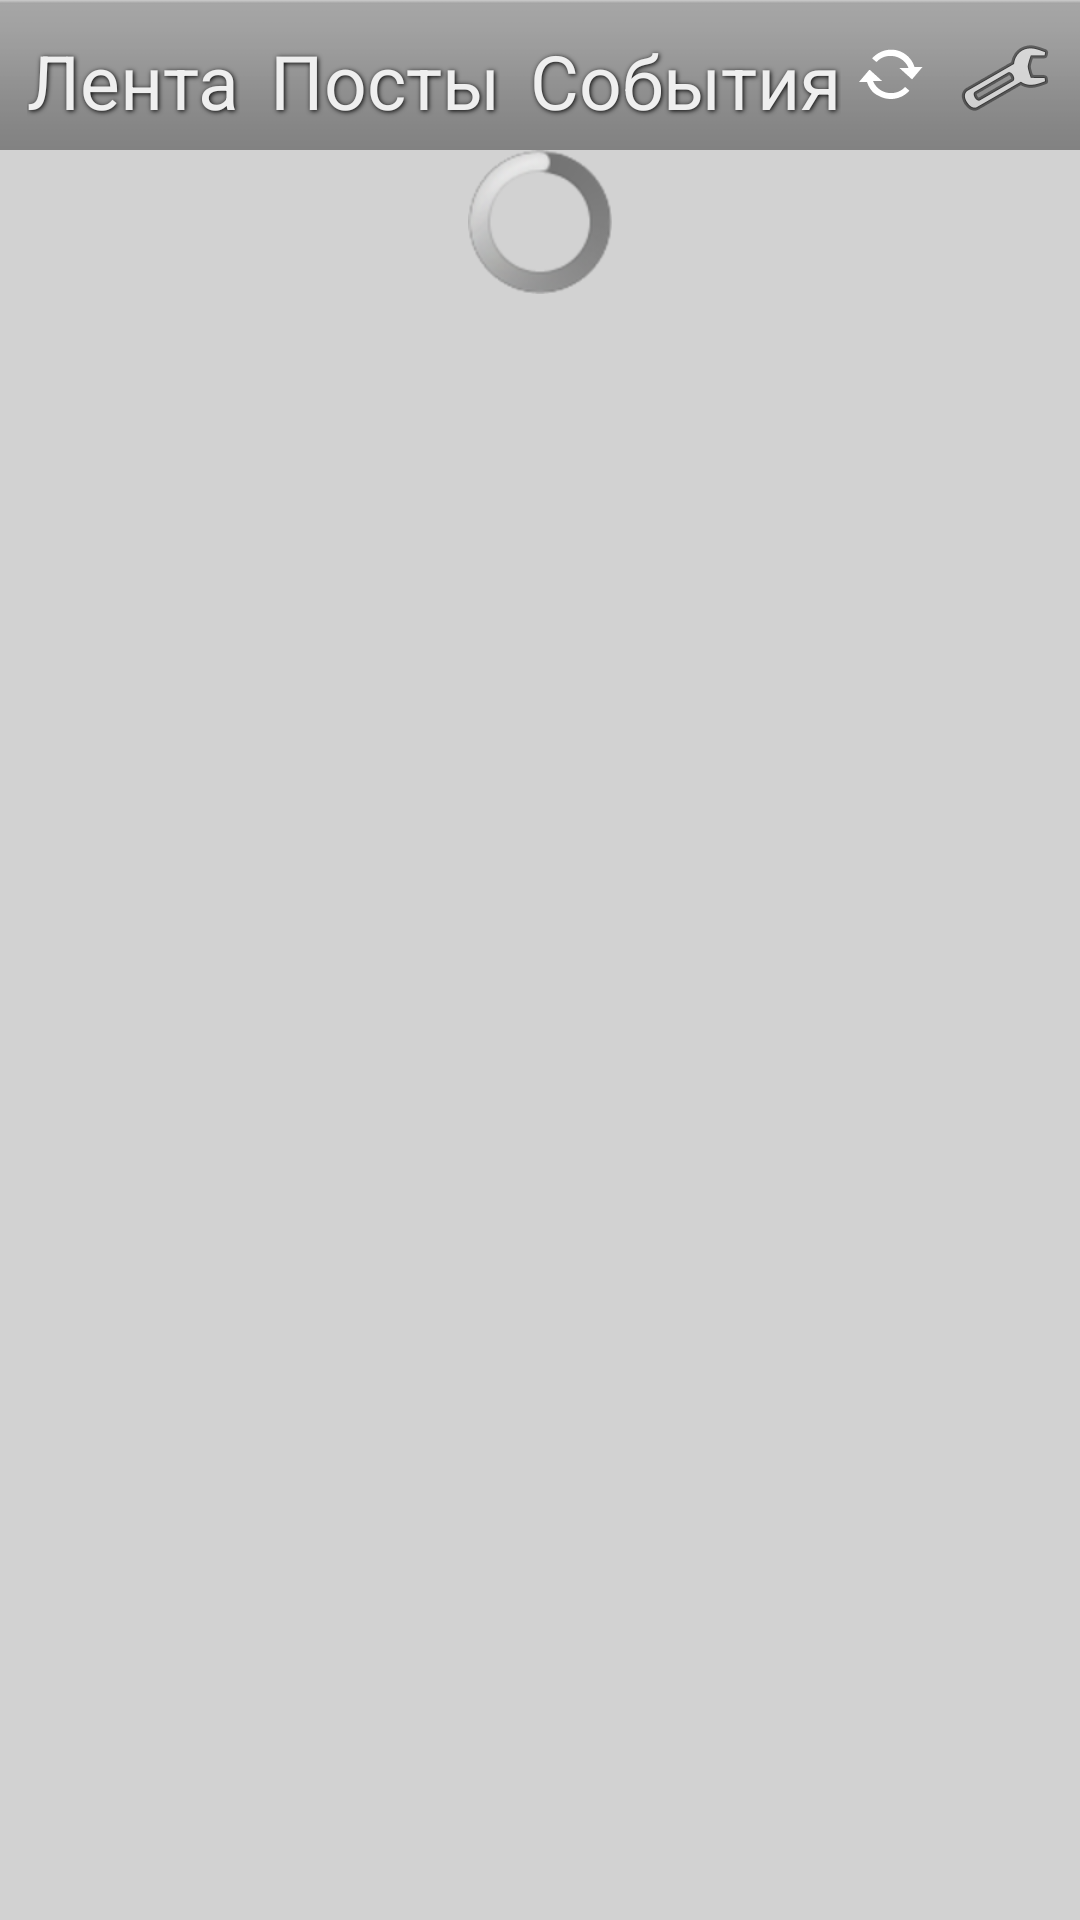

Point at icon controls on the screen. Image size 1080px x 1920px, points as [x,y].
preferences: [1005,70]
sync: [890,74]
